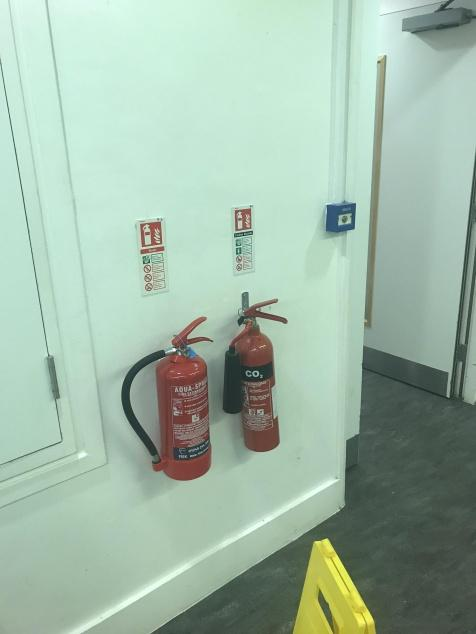APAR: (154, 315, 215, 480), (235, 298, 288, 453)
